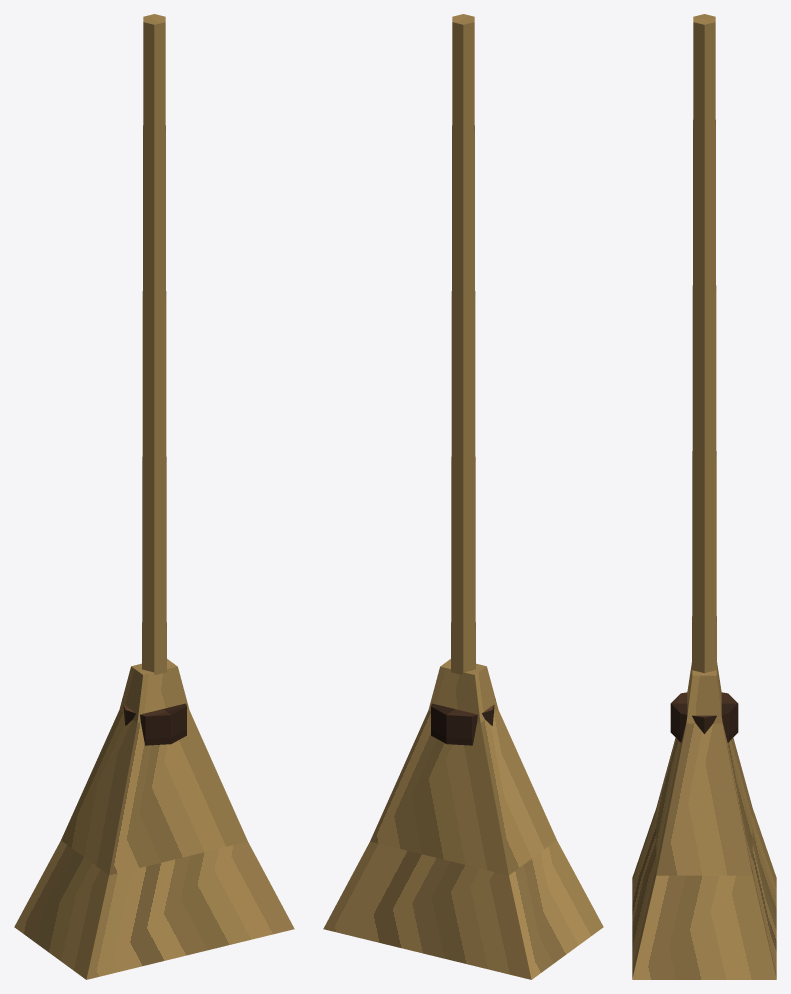
Rendered from MonkBroom.glb.
3 views of the same model, side by side, from view 1: azimuth 30°, elevation 25°; view 2: azimuth 150°, elevation 25°; view 3: azimuth 270°, elevation 25° (orthographic).
Visible parts, largest first — view 1: MonkBroom; view 2: MonkBroom; view 3: MonkBroom.
Part boxes in pixels (x1,y1,x2,y2): MonkBroom: [14, 14, 294, 979]; MonkBroom: [323, 14, 603, 979]; MonkBroom: [632, 14, 776, 979].
Bounding box in the file's own units: 0.3 × 1.25 × 0.18.
2 materials, 2 textured.
